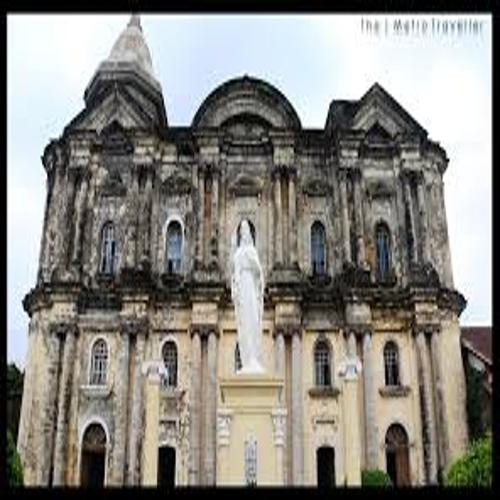Taal Basilica Church: (16, 19, 475, 482)
